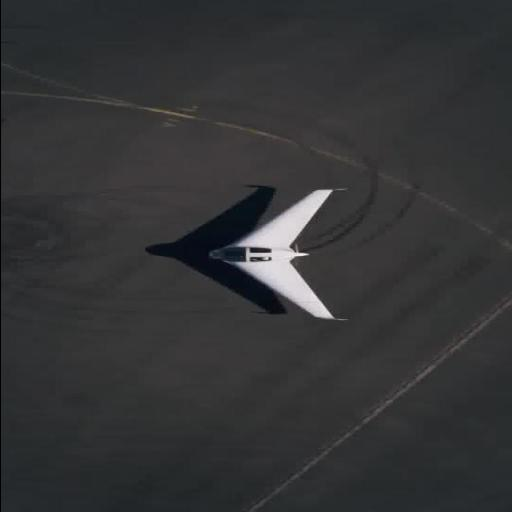uav: (194, 186, 356, 324)
